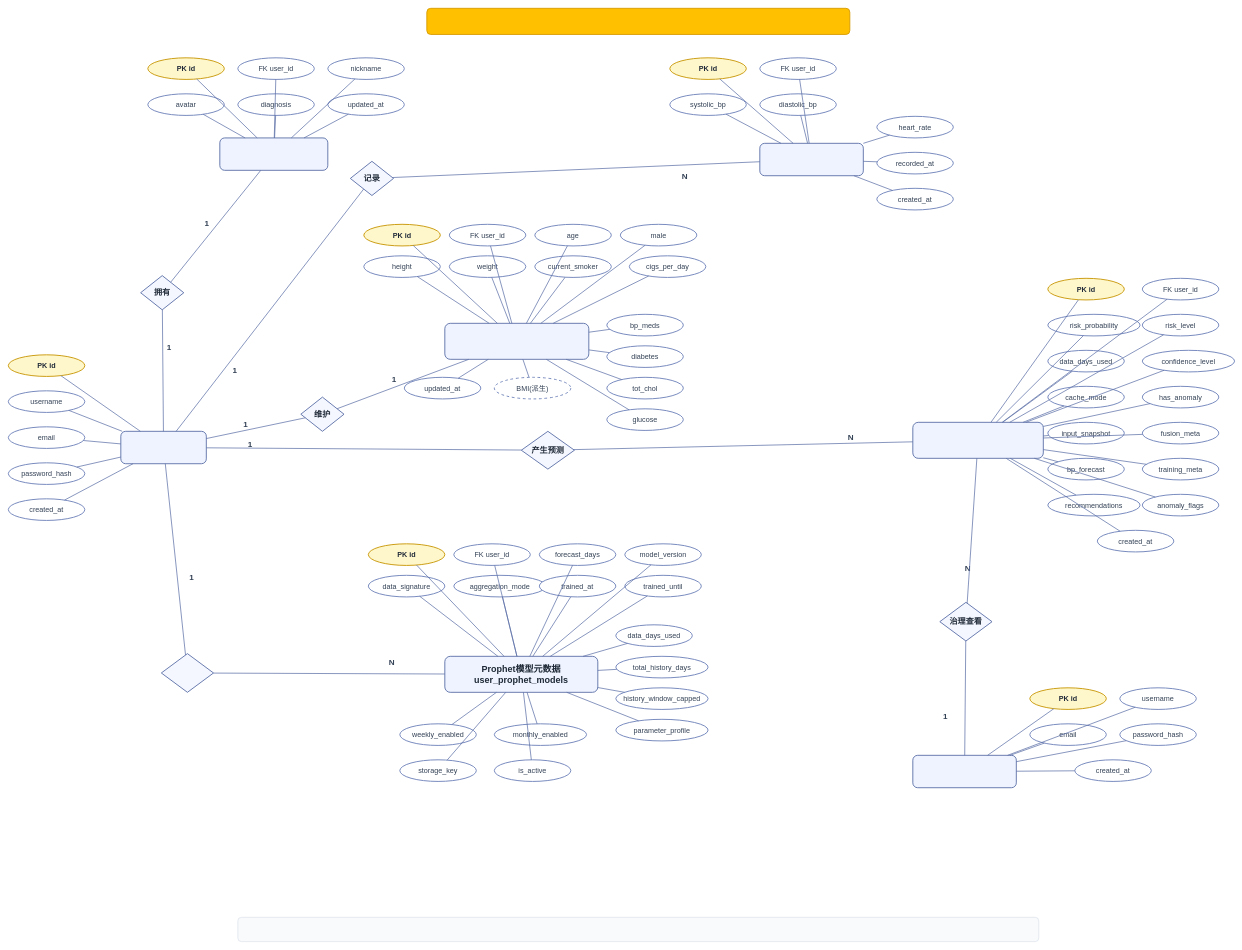
The diagram is 1242 pixels wide and 950 high, and some of its shapes have lost their labels. Here are the shapes that lost their labels. From the top down, the centre of each, then its label:
At point 638,21: "高血压风险预测系统核心实体 E-R 图".
At point 273,154: "个人档案 user_profiles".
At point 811,159: "血压记录 bp_records".
At point 516,341: "风险因素档案 user_risk_factor_profiles".
At point 163,447: "普通用户 users".
At point 978,440: "预测记录 prediction_records".
At point 187,673: "训练/复用".
At point 964,771: "管理员 admin_users".
At point 638,929: "图例：矩形=实体，菱形=联系，椭圆=属性；PK=主键，FK=外键，虚线椭圆=派生属性；连线旁 1 / N 表示基数。".
